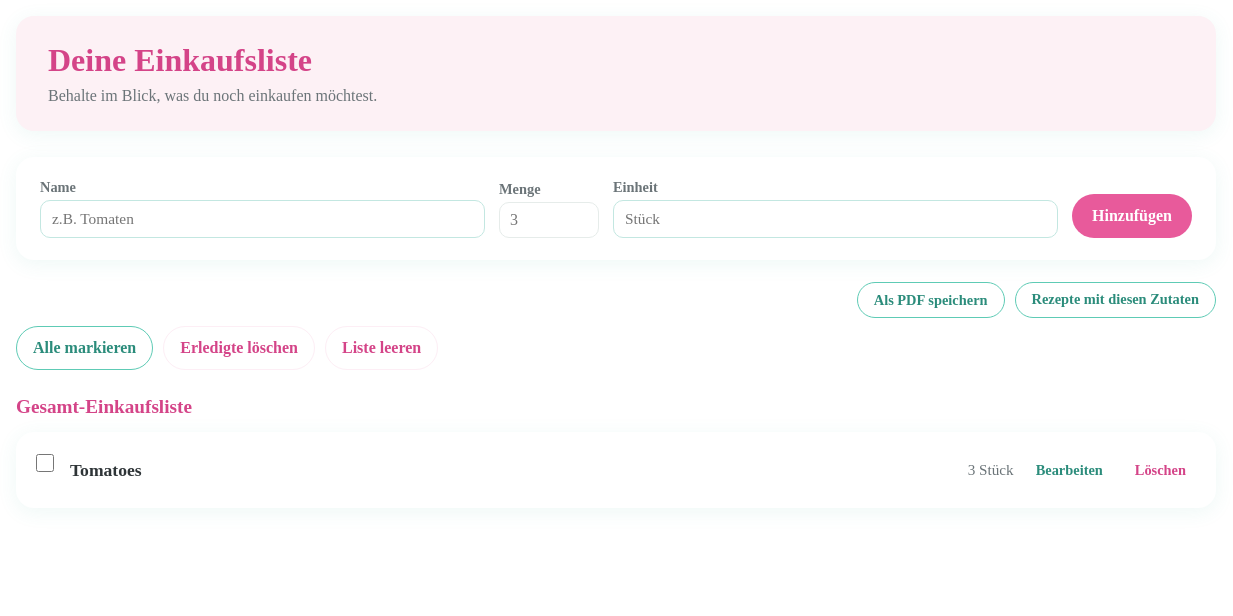
Test case: ShoppingListView › updates a shopping list item and refreshes it in the list
The width and height of the screenshot is (1233, 616).
Click the button with class "edit-btn".
click(1069, 470)  # box [1026, 450, 1113, 490]
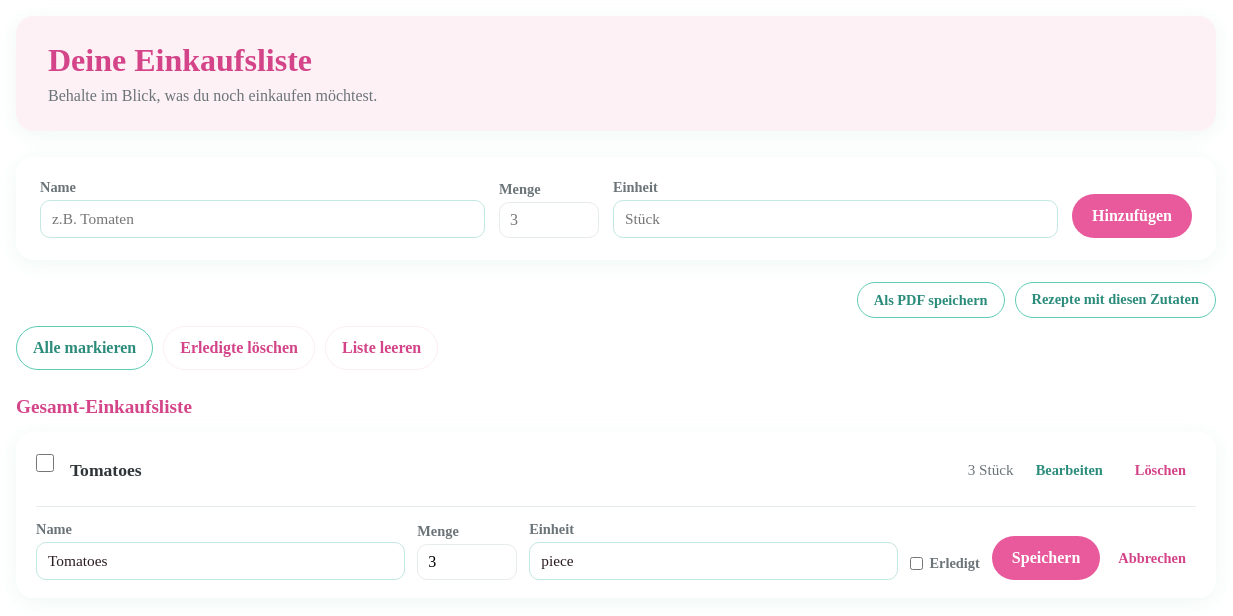
Replace the text in the 1st field with placeholder "z.B. Tomaten" with "Cherry Tomatoes" at [221, 561], box [36, 542, 405, 580]
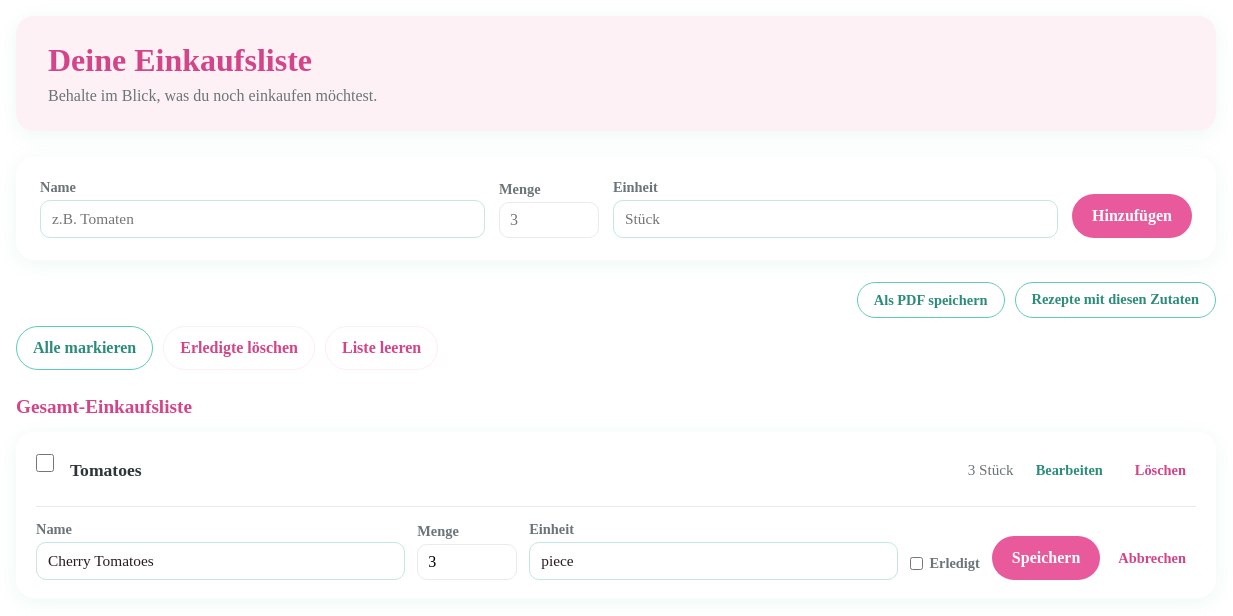
Type "5" into the number field with placeholder "3".
click(467, 562); type("5")  # box [417, 544, 517, 580]
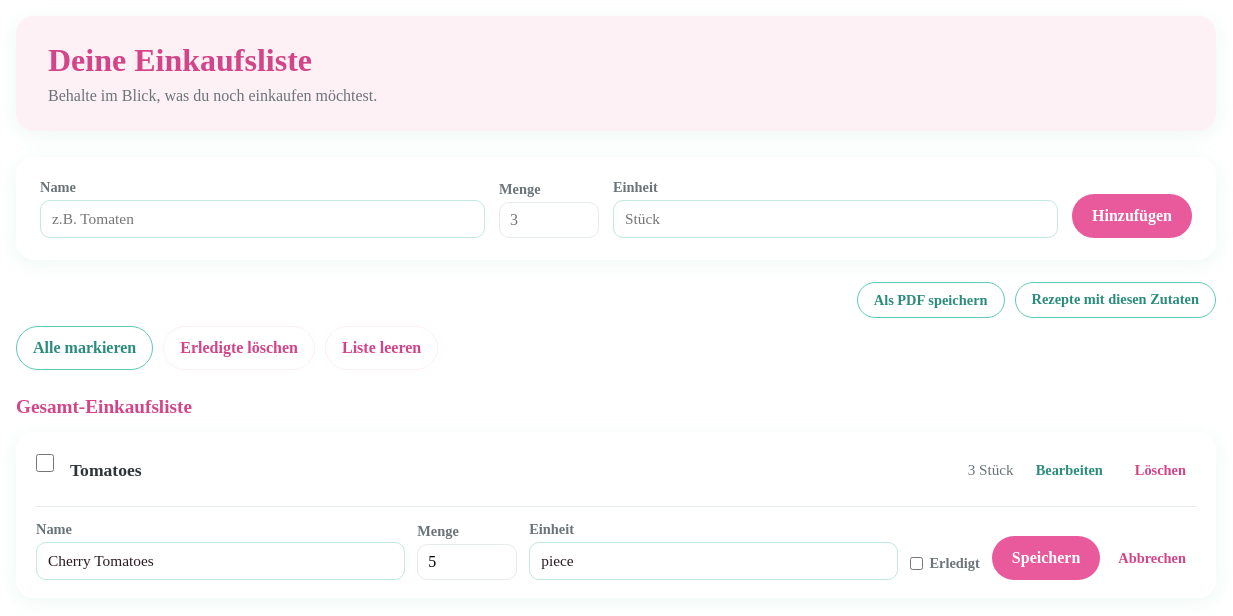
Click the checkbox labelled "Erledigt".
click(917, 564)  # box [910, 557, 924, 570]
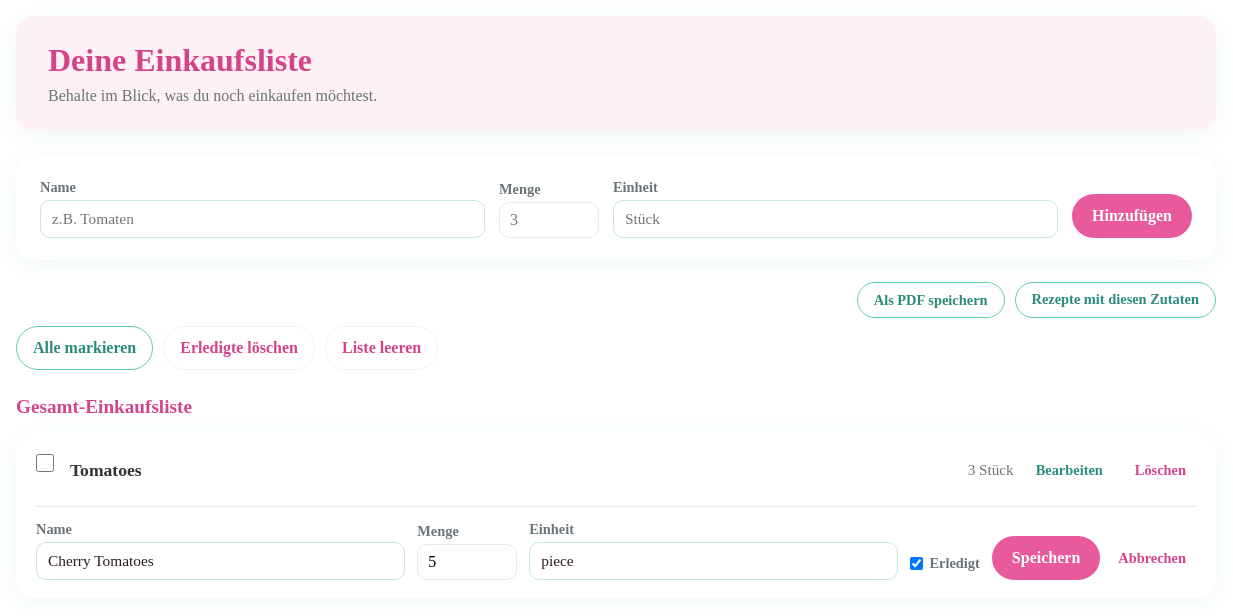
Submit the form with class "edit-form", box [36, 506, 1196, 580]
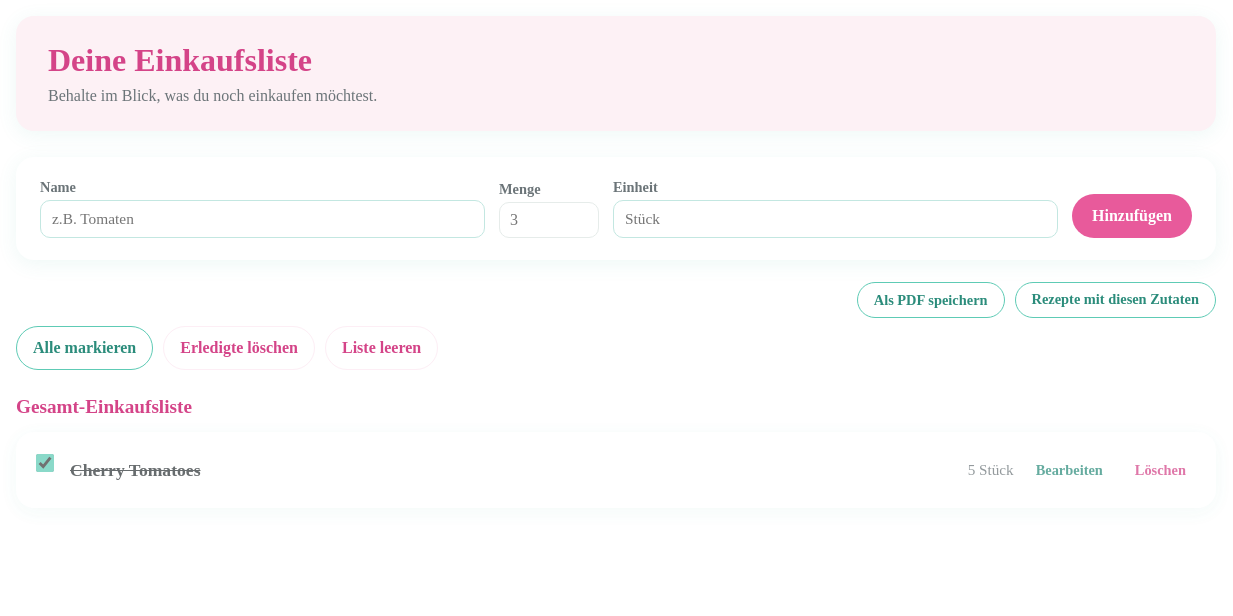
Expected: the text "Cherry Tomatoes" is shown, [70, 460, 200, 480]
